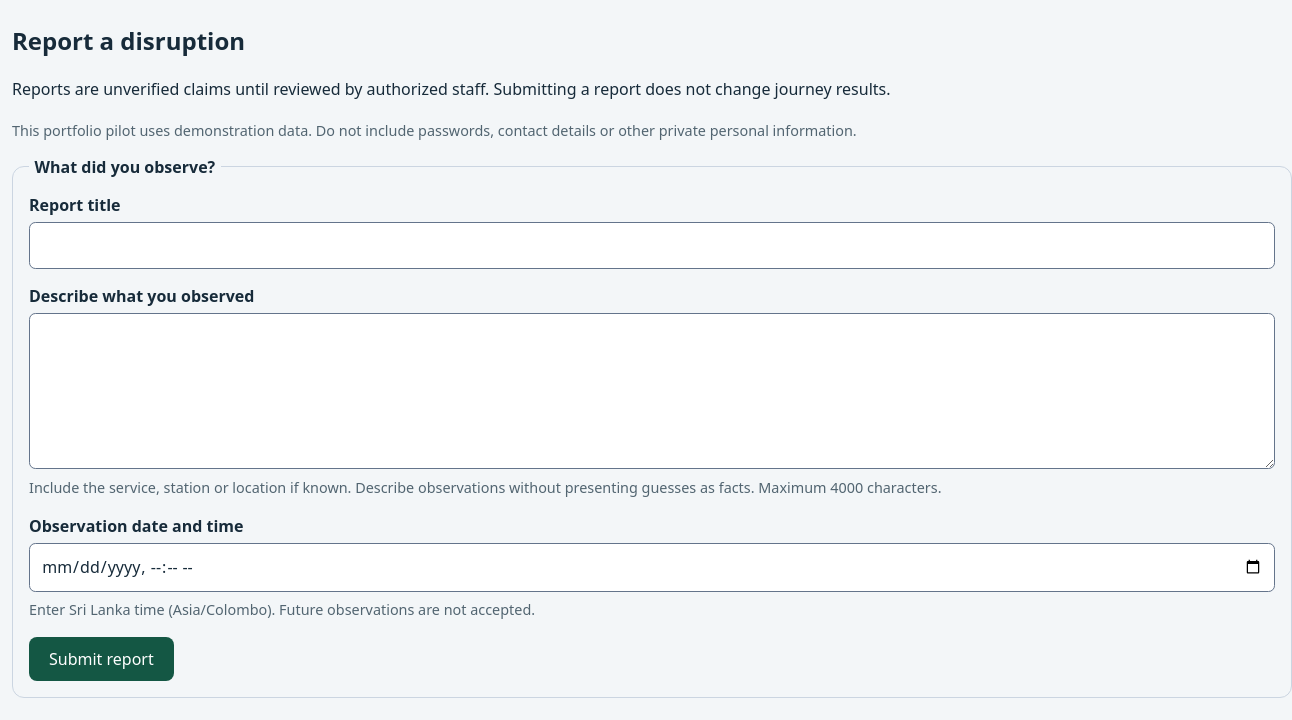
Test: Passenger report form › converts Sri Lanka time to UTC and displays a pending receipt
Type "Synthetic station observation" into the field labelled "Report title".
click(652, 246); type("Synthetic station observation")  # box [29,222,1275,269]
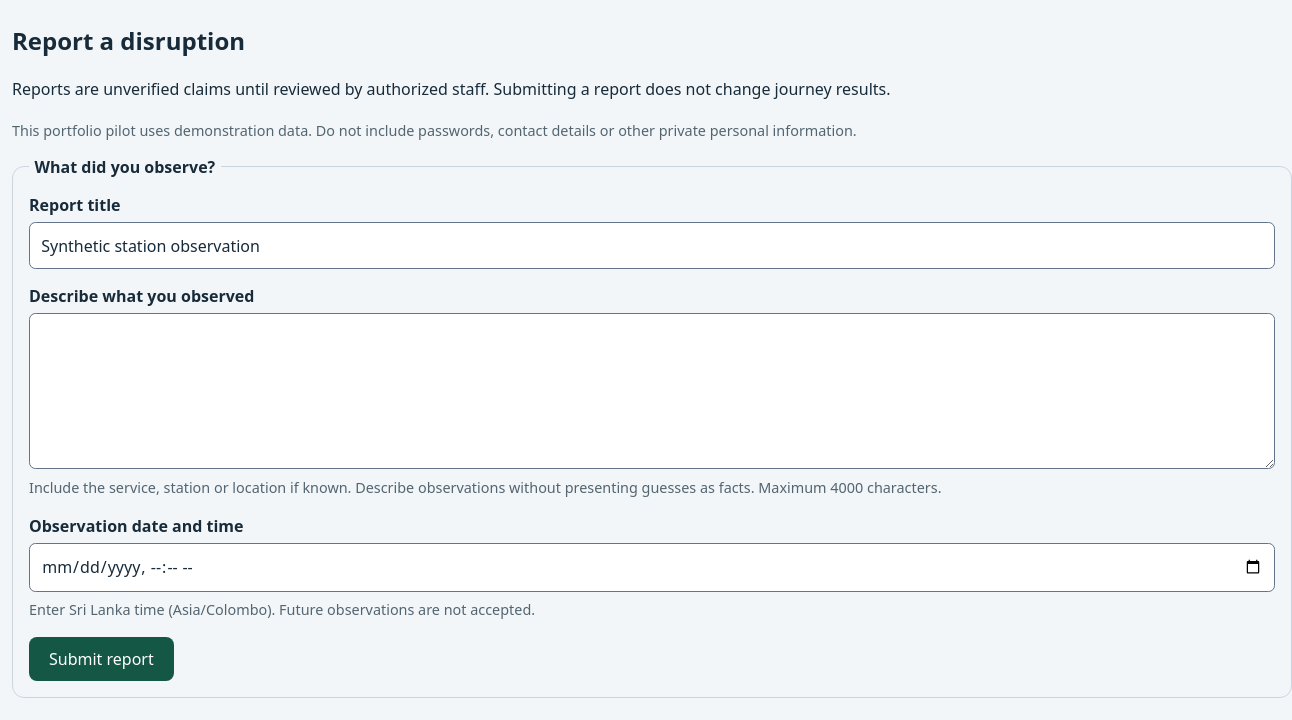
Type "A fictional observation for the portfolio demonstration." into the text box labelled "Describe what you observed".
click(652, 391); type("A fictional observation for the portfolio demonstration.")  # box [29,313,1275,470]
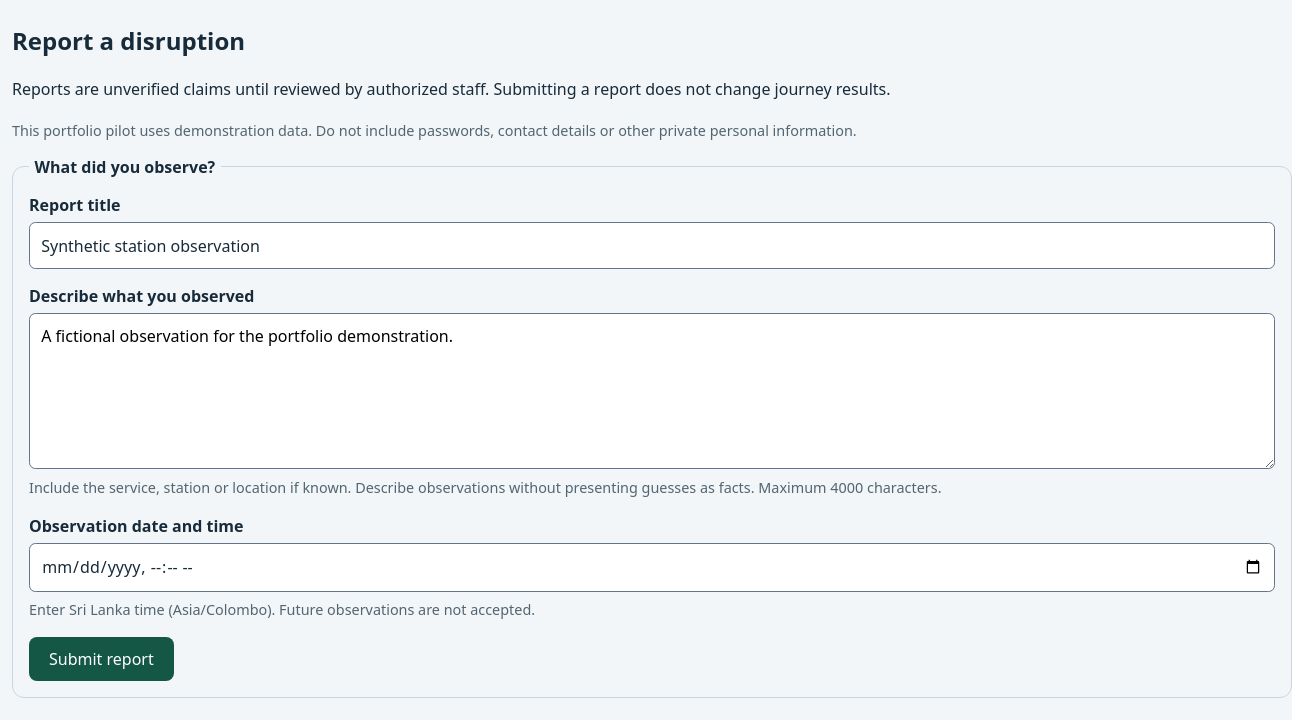
Type "2020-01-02T10:30" into the field labelled "Observation date and time".
click(652, 568); type("2020-01-02T10:30")  # box [29,543,1275,592]
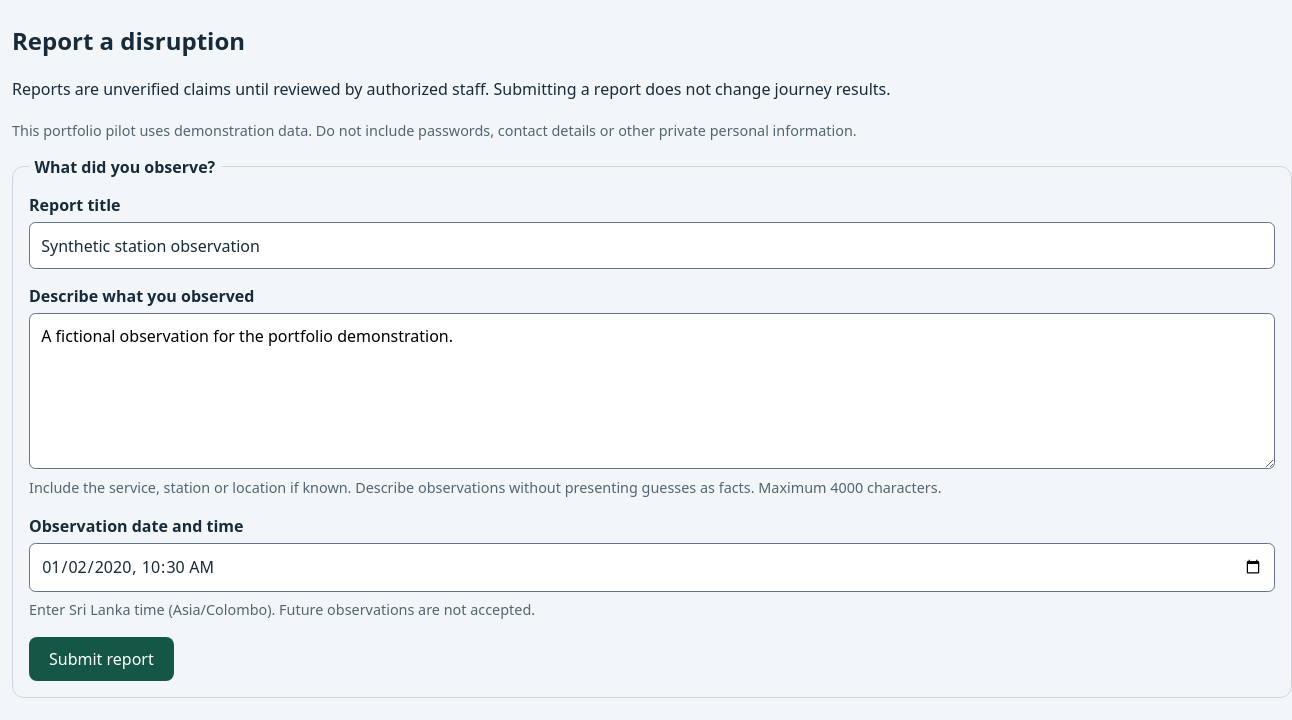
Click the button "Submit report".
click(101, 659)  # box [29,637,174,681]
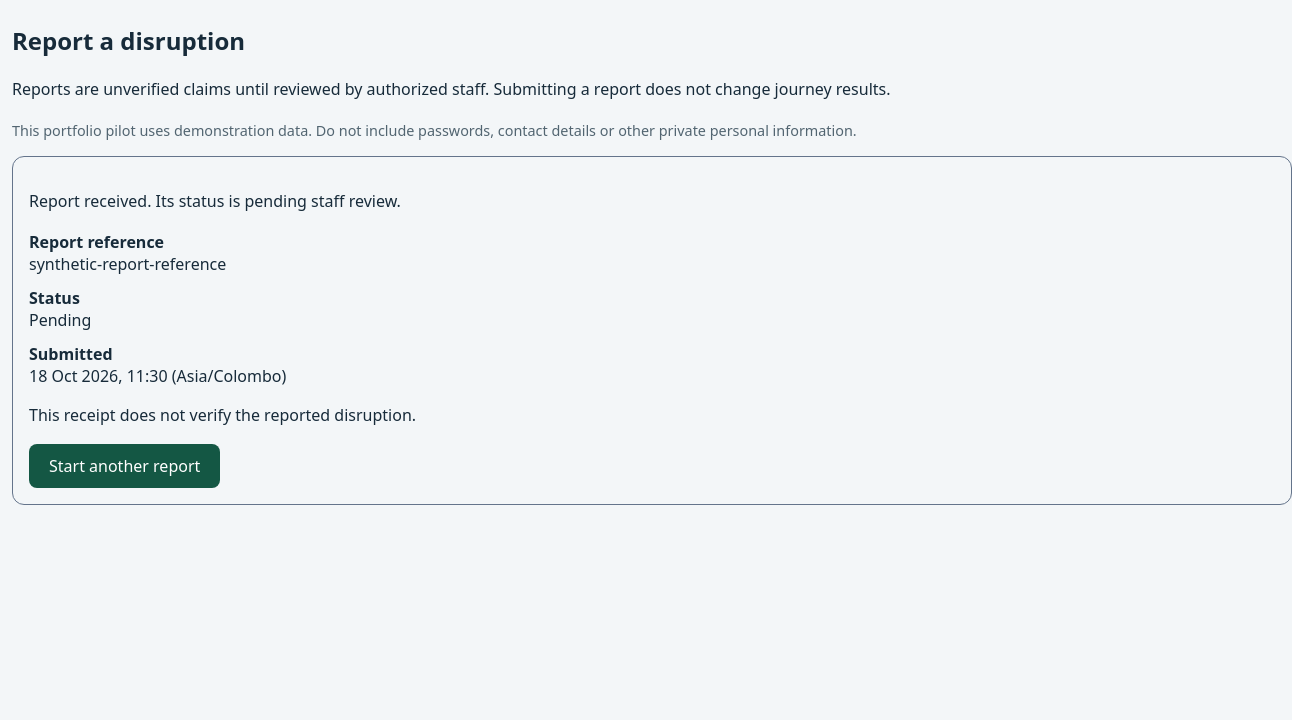
Check: the text "Report received. Its status is pending staff review." is shown, box [29,190,401,212]
Check: the text "synthetic-report-reference" is shown, box [29,252,226,274]
Check: the text "This receipt does not verify the reported disruption." is shown, box [29,404,416,426]
